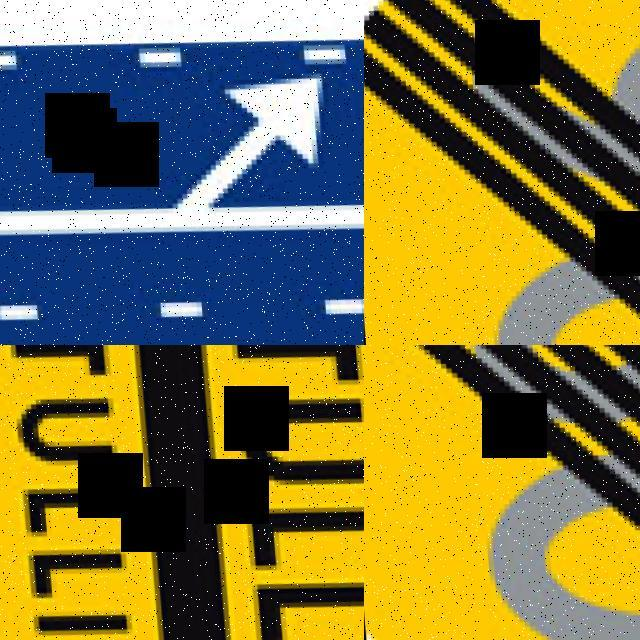117: (0, 345, 364, 640)
124: (364, 0, 640, 345), (364, 345, 640, 640)
65: (0, 0, 364, 345)
Passing without stopping prohibited: (0, 345, 364, 640)
